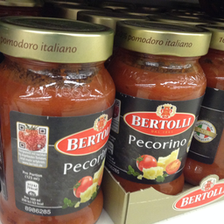tomato_sauce: (1, 16, 117, 224), (111, 19, 212, 196)
